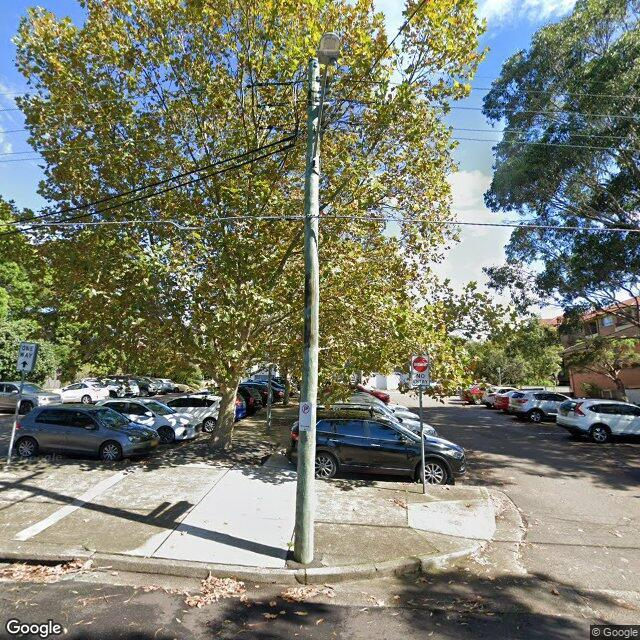streetlight: (310, 33, 342, 167)
timber-pole: (293, 57, 320, 564)
